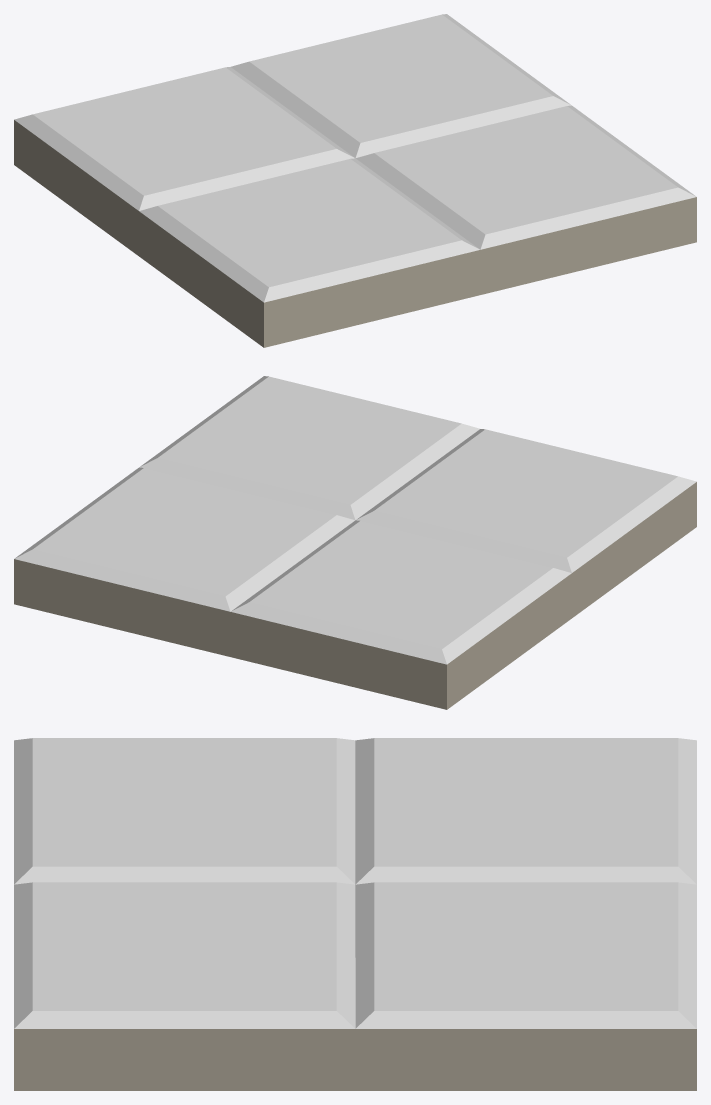
Rendered from Mesh_GroundCeramic_A1.fbx.
3 views of the same model, one above another, from view 1: azimuth 30°, elevation 25°; view 2: azimuth 150°, elevation 25°; view 3: azimuth 270°, elevation 25° (orthographic). The views are drawn at different scales.
Visible parts, largest first — view 1: Mesh_GroundCeramic_A1; view 2: Mesh_GroundCeramic_A1; view 3: Mesh_GroundCeramic_A1.
Boxes of the visible parts, box(x1,y1,x2,y2) form: Mesh_GroundCeramic_A1: box(14, 14, 696, 347); Mesh_GroundCeramic_A1: box(14, 376, 696, 709); Mesh_GroundCeramic_A1: box(14, 738, 696, 1090).
Bounding box in the file's own units: 1 × 0.1164 × 1.
